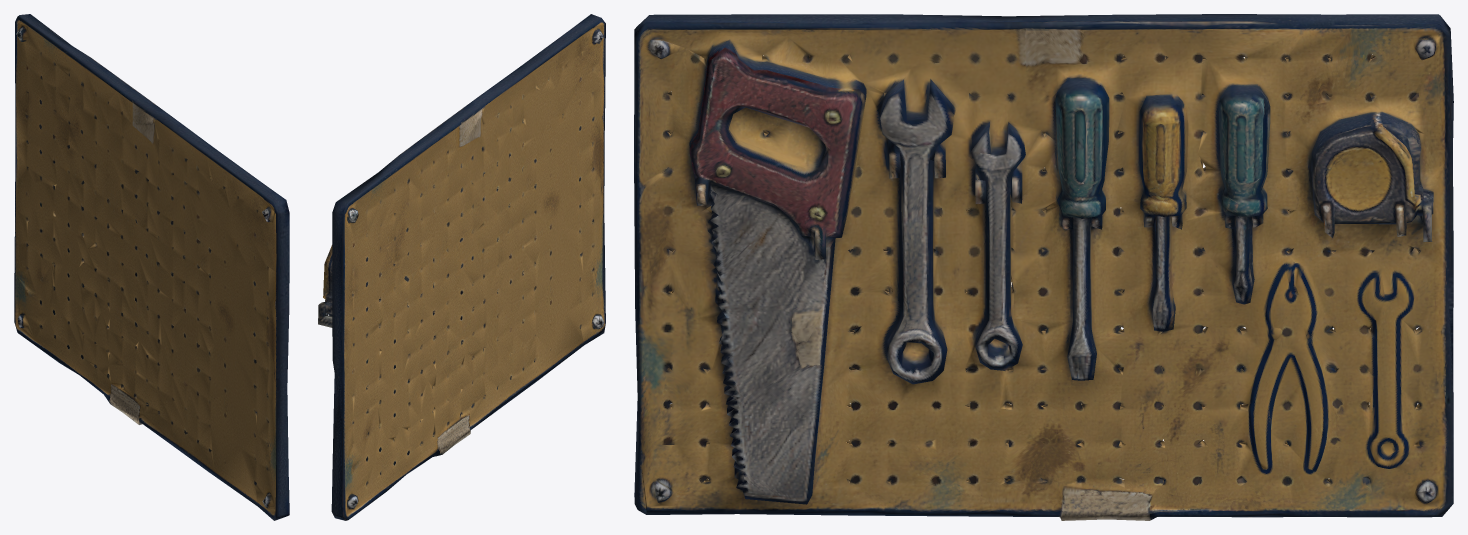
The model's file is OfficeToolBoard.fbx.
The picture shows the model from 3 angles, left to right: view 1: azimuth 30°, elevation 25°; view 2: azimuth 150°, elevation 25°; view 3: azimuth 270°, elevation 25°; orthographic projection. The views are drawn at different scales.
Parts seen in each view (by area): view 1: tripo_node_27149852-9d96-4b29-9dab-95c478d1165f; view 2: tripo_node_27149852-9d96-4b29-9dab-95c478d1165f; view 3: tripo_node_27149852-9d96-4b29-9dab-95c478d1165f.
Part boxes in pixels (x1=…): tripo_node_27149852-9d96-4b29-9dab-95c478d1165f: x1=14, y1=14, x2=289, y2=520; tripo_node_27149852-9d96-4b29-9dab-95c478d1165f: x1=318, y1=14, x2=605, y2=520; tripo_node_27149852-9d96-4b29-9dab-95c478d1165f: x1=634, y1=14, x2=1453, y2=520.
Bounding box in the file's own units: 8.65 × 66.95 × 100.
1 material, 1 textured.
